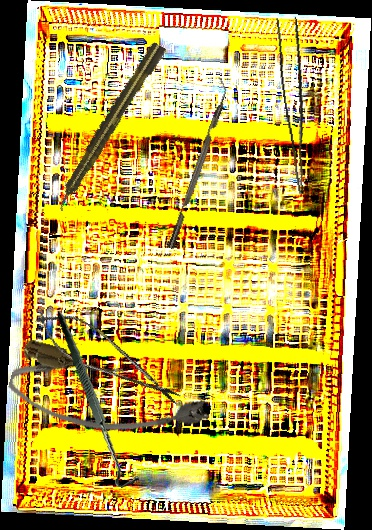Cannula: (3, 336, 216, 460)
Chopper: (159, 77, 234, 250)
Handpiece: (50, 40, 168, 214)
Hook Surgical: (38, 310, 158, 490)
Micro Scissor: (24, 298, 192, 417)
Tissue Forceps: (271, 15, 324, 195)
